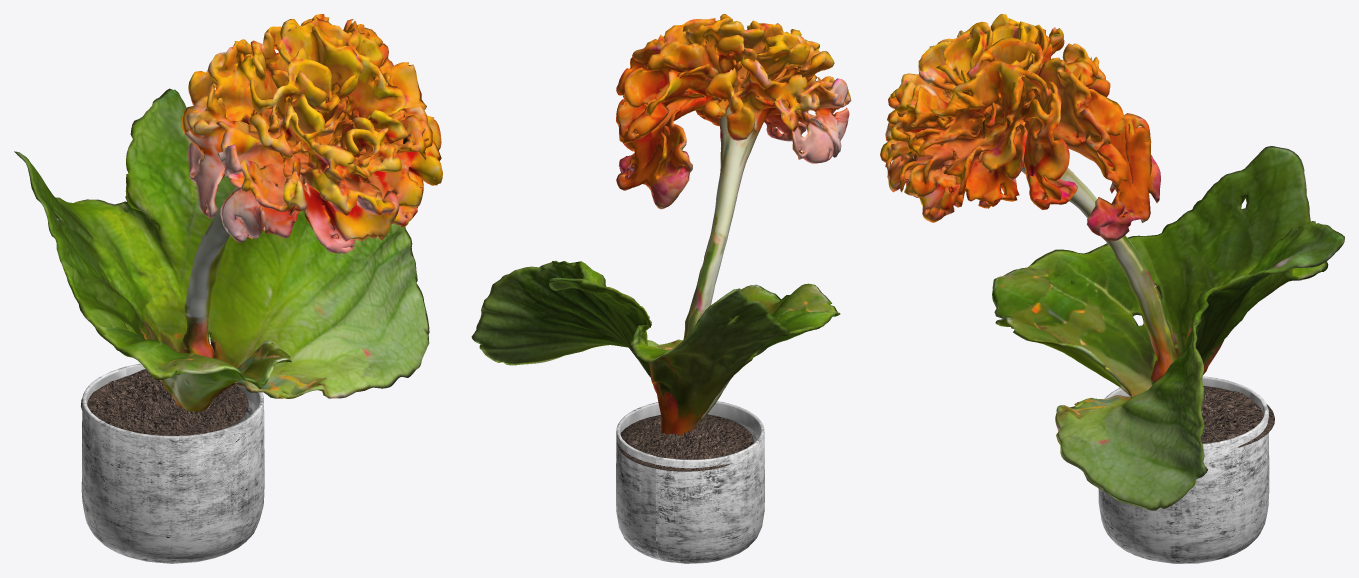
File: Lantana Bloussum.glb
3 renders of one model, left to right at view 1: azimuth 30°, elevation 25°; view 2: azimuth 150°, elevation 25°; view 3: azimuth 270°, elevation 25°, orthographic. The views are drawn at different scales.
Parts seen in each view (by area): view 1: Mesh_0.019, G-AUL10_0; view 2: Mesh_0.019, G-AUL10_0; view 3: Mesh_0.019, G-AUL10_0.
Part boxes in pixels (x1,y1,x2,y2): Mesh_0.019: (14, 14, 442, 411); G-AUL10_0: (81, 363, 264, 563); Mesh_0.019: (471, 14, 851, 435); G-AUL10_0: (616, 401, 764, 563); Mesh_0.019: (880, 14, 1344, 510); G-AUL10_0: (1098, 376, 1274, 563).
Size of the model in its own units: 1.59 by 2.33 by 1.84.
Materials: 3 (3 with a texture image).
